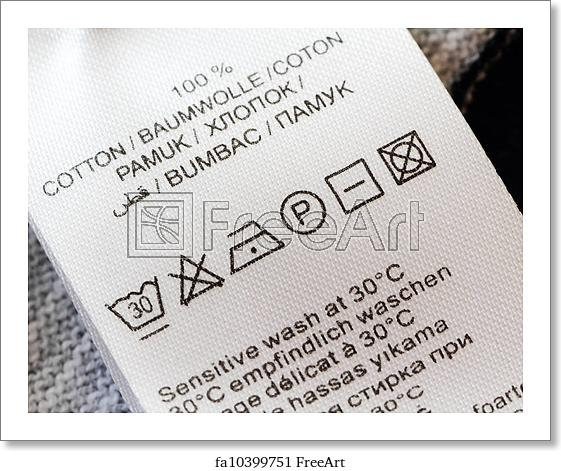do_not_bleach: (175, 255, 226, 307)
